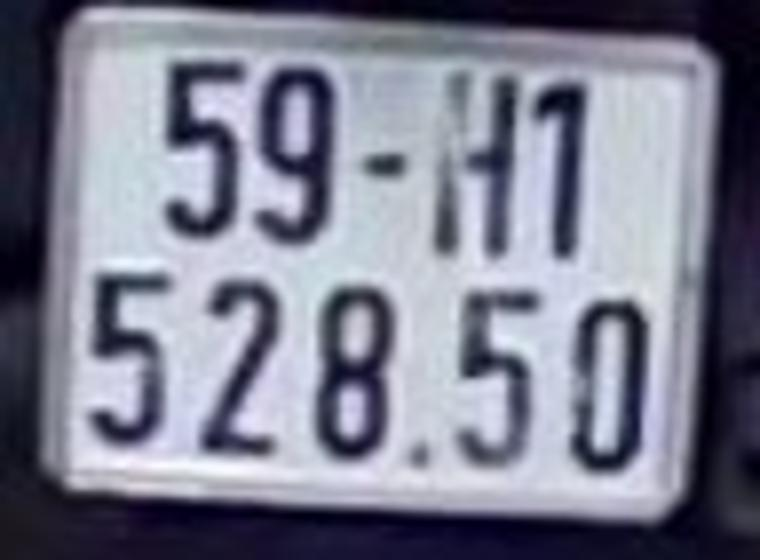.: (368, 151, 400, 173), (410, 443, 425, 464)
0: (569, 298, 642, 472)
1: (537, 76, 583, 250)
2: (203, 282, 273, 444)
5: (458, 289, 531, 471), (91, 270, 164, 445), (166, 59, 235, 235)
8: (313, 284, 386, 460)
9: (259, 66, 332, 240)
H: (438, 69, 513, 255)
